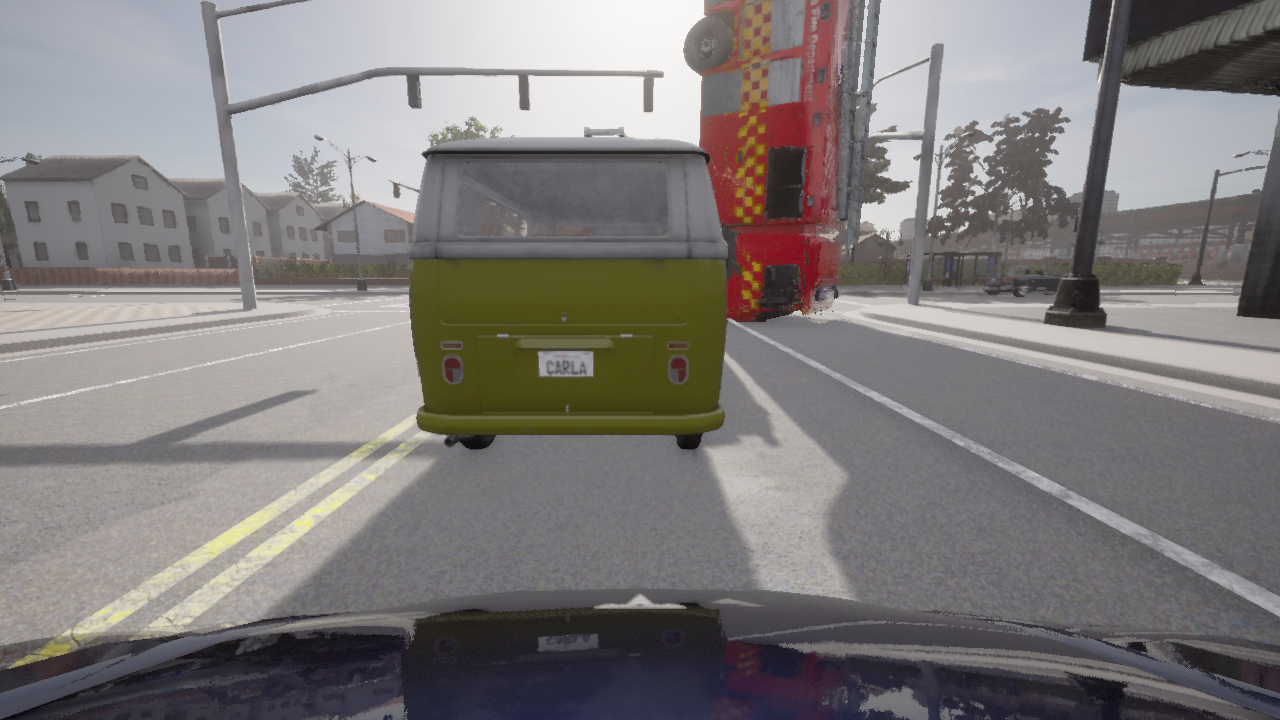cyclist: (0, 588, 1279, 719), (408, 137, 727, 449), (685, 0, 881, 322), (585, 126, 705, 151), (982, 264, 1069, 297)
pedestrian: (892, 265, 897, 284)
